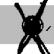not correct: (10, 0, 52, 54)
